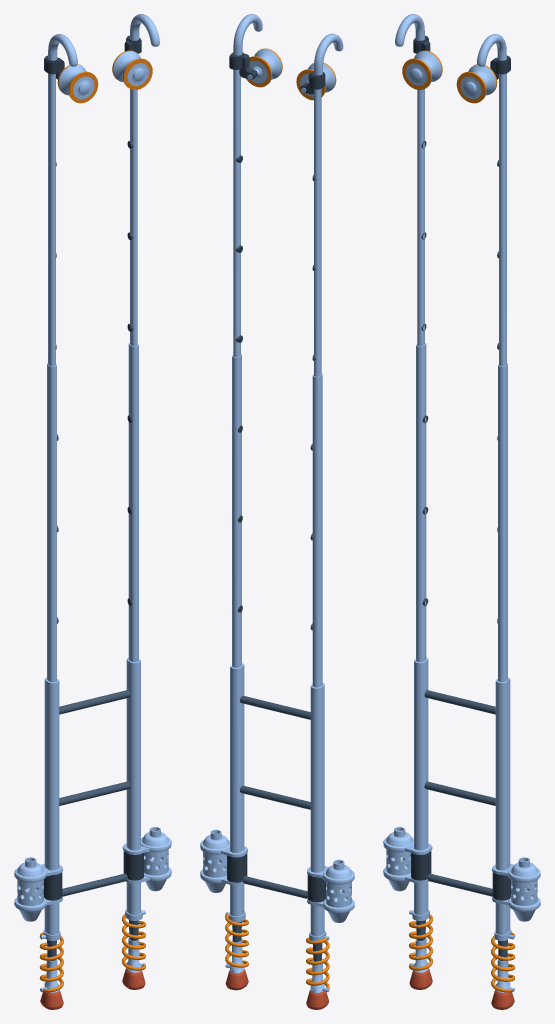
The model's file is Ladder_SpringsUpgrade_01_Mesh.fbx.
3 views of the same model, side by side, from view 1: azimuth 30°, elevation 25°; view 2: azimuth 150°, elevation 25°; view 3: azimuth 330°, elevation 25° (orthographic).
Visible parts, largest first — view 1: Steps Right 4.001, Fire Burst.001, Wheels.001, Steps Right 4.002, Springs Backup.001, Feet; view 2: Steps Right 4.001, Fire Burst.001, Wheels.001, Steps Right 4.002, Springs Backup.001, Feet; view 3: Steps Right 4.001, Fire Burst.001, Wheels.001, Steps Right 4.002, Springs Backup.001, Feet.
Boxes of the visible parts, box(x1,y1,x2,y2) form: Steps Right 4.001: box(40, 73, 145, 960); Fire Burst.001: box(14, 827, 171, 921); Wheels.001: box(56, 40, 152, 103); Steps Right 4.002: box(44, 14, 159, 74); Springs Backup.001: box(39, 910, 145, 992); Feet: box(40, 938, 145, 1009); Steps Right 4.001: box(225, 69, 329, 961); Fire Burst.001: box(200, 829, 354, 922); Wheels.001: box(239, 48, 336, 100); Steps Right 4.002: box(229, 14, 343, 89); Springs Backup.001: box(225, 913, 329, 988); Feet: box(225, 939, 329, 1009); Steps Right 4.001: box(409, 73, 514, 960); Fire Burst.001: box(383, 827, 540, 921); Wheels.001: box(402, 40, 498, 103); Steps Right 4.002: box(395, 14, 510, 74); Springs Backup.001: box(409, 910, 515, 992); Feet: box(409, 938, 514, 1009).
Bounding box in the file's own units: 63.52 × 388 × 22.88.
